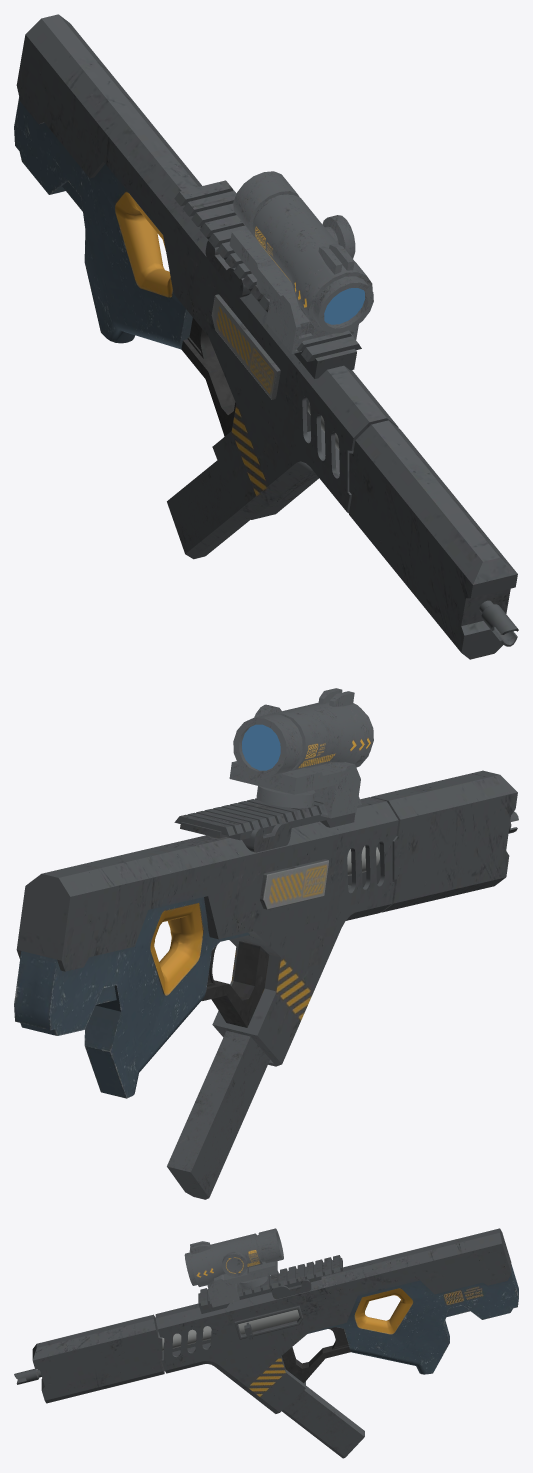
File: pulse-ar-h470.glb
3 views of the same model, one above another, from view 1: azimuth 30°, elevation 25°; view 2: azimuth 150°, elevation 25°; view 3: azimuth 270°, elevation 25° (orthographic). The views are drawn at different scales.
Parts seen in each view (by area): view 1: Cube.015, Cylinder.006, Cube.016; view 2: Cube.015, Cylinder.006, Cube.016; view 3: Cube.015, Cylinder.006, Cube.016.
Part boxes in pixels (x1=…): Cube.015: x1=14, y1=14, x2=518, y2=659; Cylinder.006: x1=229, y1=171, x2=373, y2=353; Cube.016: x1=167, y1=460, x2=250, y2=559; Cube.015: x1=14, y1=770, x2=518, y2=1098; Cylinder.006: x1=229, y1=688, x2=373, y2=818; Cube.016: x1=167, y1=1030, x2=269, y2=1199; Cube.015: x1=14, y1=1228, x2=518, y2=1413; Cylinder.006: x1=184, y1=1228, x2=283, y2=1307; Cube.016: x1=282, y1=1386, x2=364, y2=1458.
Bounding box in the file's own units: 0.2529 × 1.36 × 2.75.
Materials: 3 (3 with a texture image).
